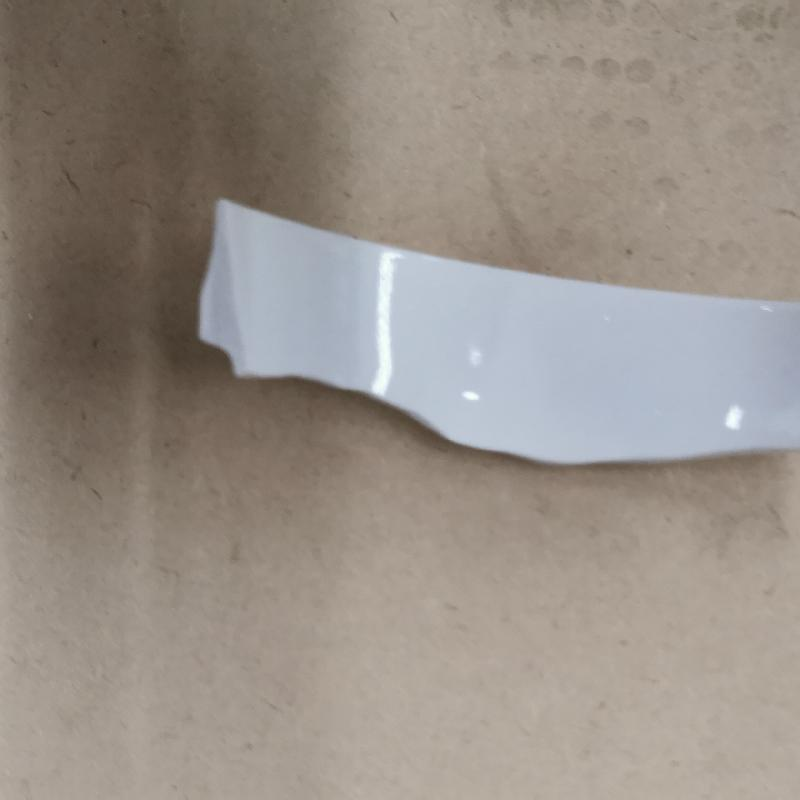ceram: (193, 191, 800, 478)
